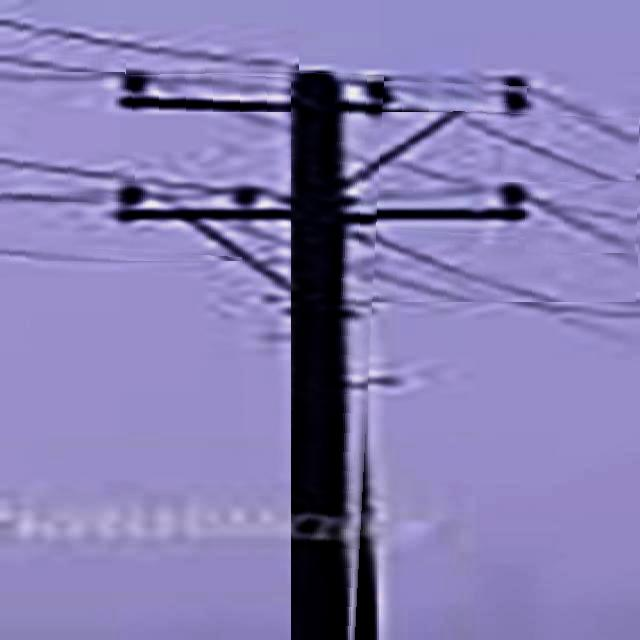crossarm: (118, 76, 528, 112), (118, 185, 528, 221)
pole: (291, 72, 363, 640)
wire: (358, 228, 590, 302), (0, 18, 299, 73), (453, 112, 637, 182), (346, 146, 501, 192), (526, 196, 636, 253), (528, 89, 639, 136), (1, 158, 135, 184), (2, 55, 124, 74), (0, 249, 186, 261), (2, 72, 125, 83), (2, 193, 124, 202), (200, 254, 233, 261)
